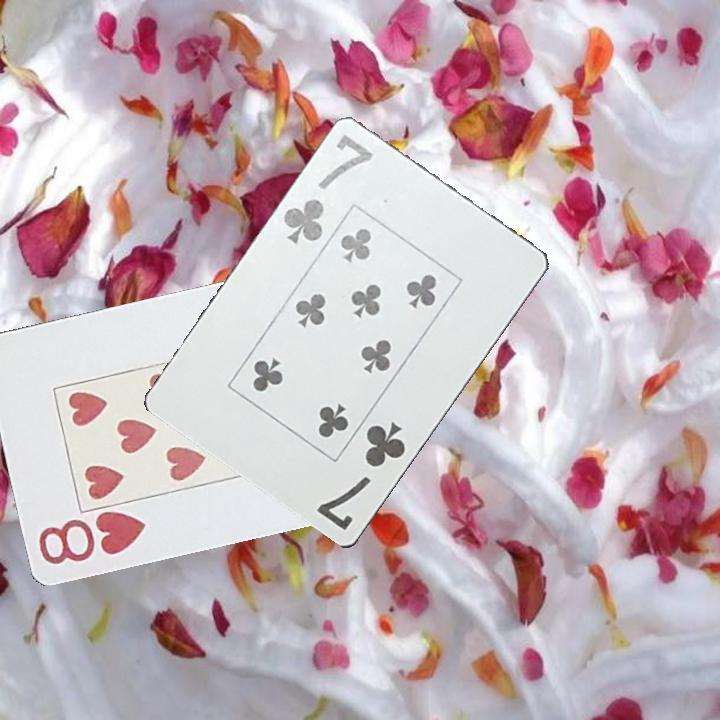7c: (279, 130, 377, 248), (313, 418, 409, 535)
8h: (35, 506, 150, 567)
